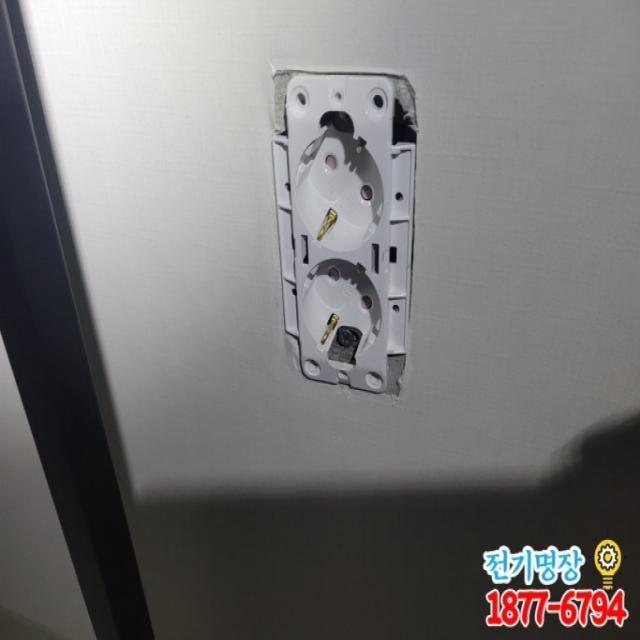typeb: (258, 37, 458, 472)
